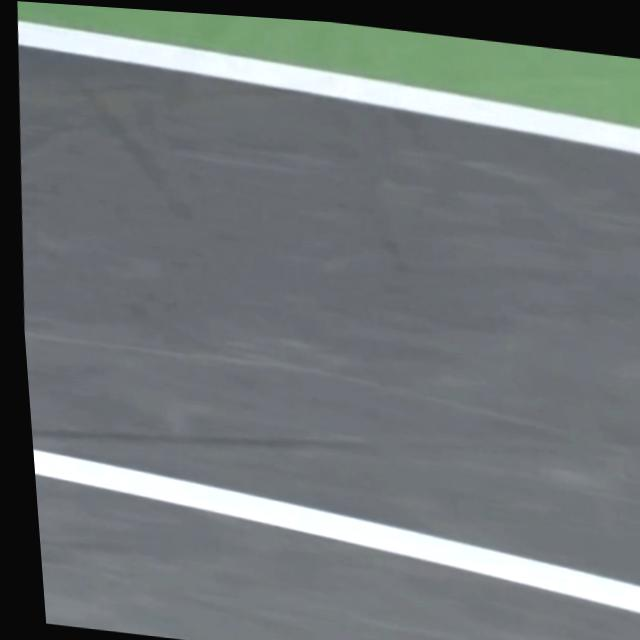center: (33, 451, 640, 614)
right: (17, 21, 640, 155)
